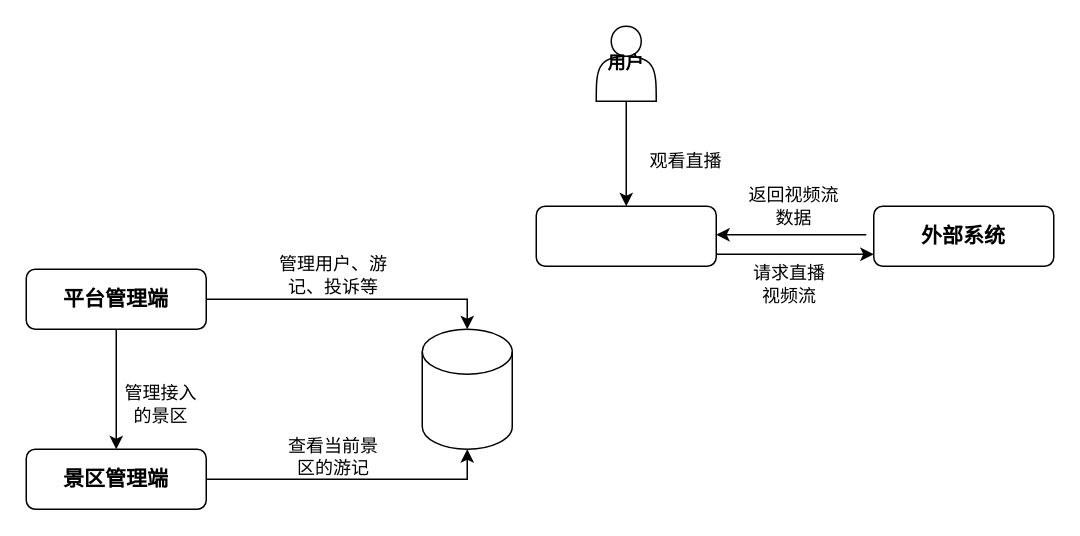
Image size: 1080x536. Some labels were removed from this diagram. The shapes that lost their labels are listed below. From the top down, each one's centre as x and y in pixels, then its label:
(625,235): 客户端
(466,388): 数据存储
